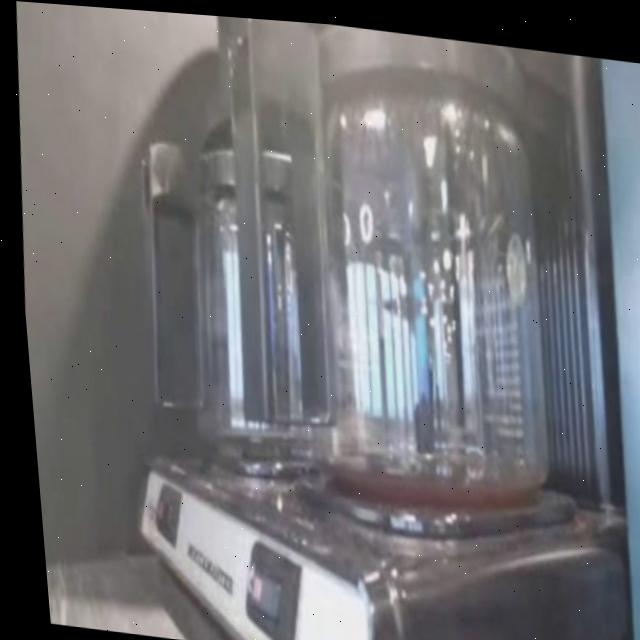nocoffee: (282, 119, 558, 481), (168, 196, 300, 475)
